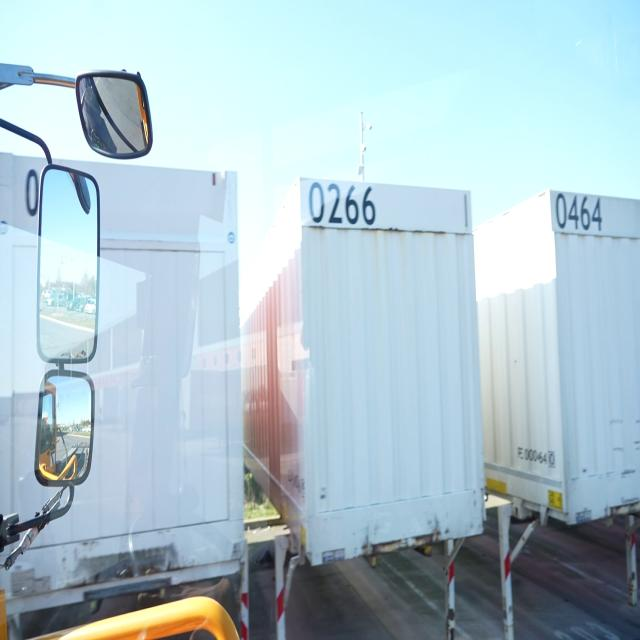Code: (305, 177, 378, 225), (553, 187, 605, 234)
